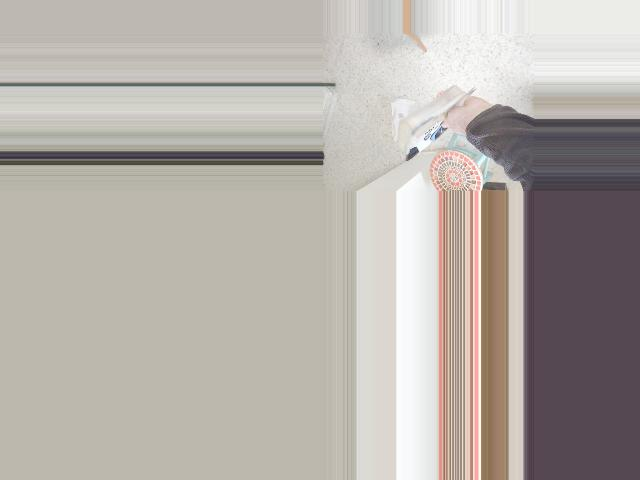cheese: (384, 76, 489, 172)
